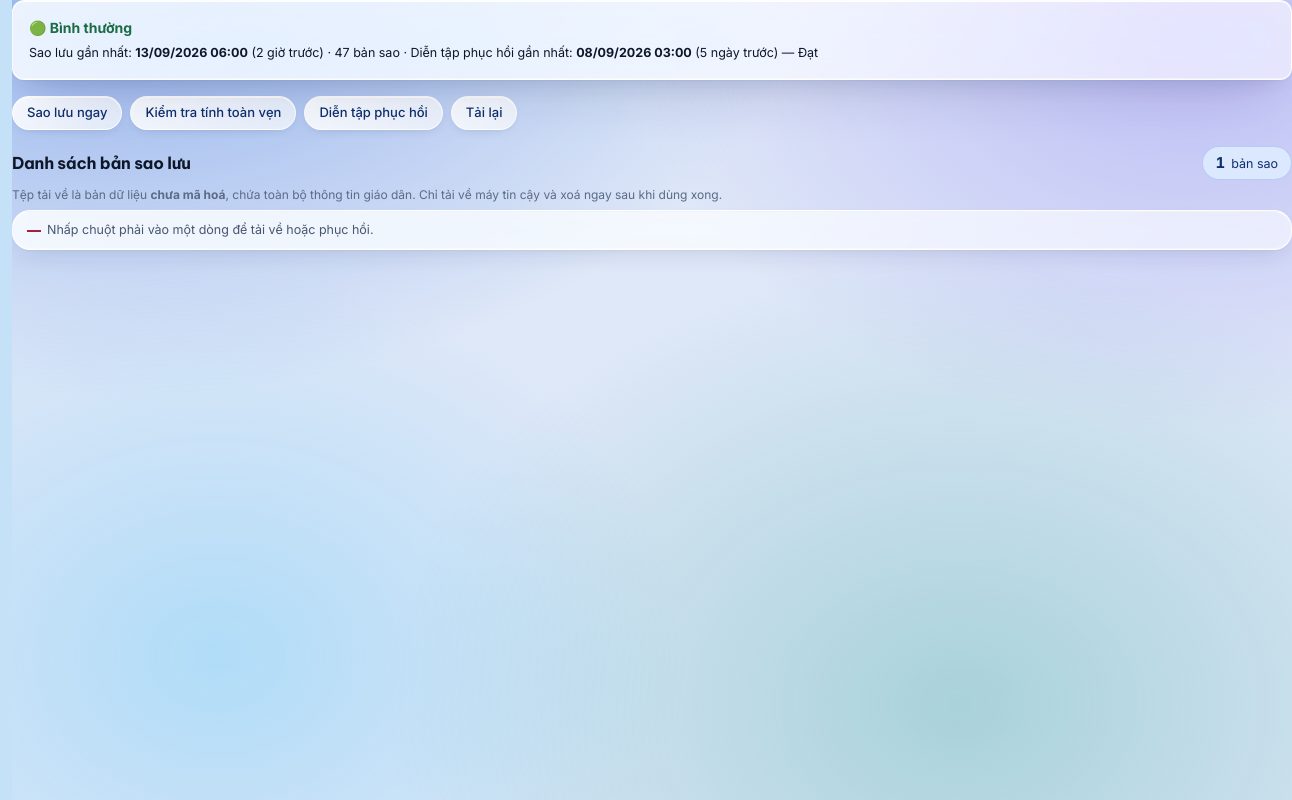
SaoLuuPage › bao loi ro rang khi tao cong viec that bai, khong im lang
Expected: the text "🟢 Bình thường" is shown, [29,19,132,36]
Step 1. Click the button "Sao lưu ngay" → (67, 113), box [12,96,122,130]
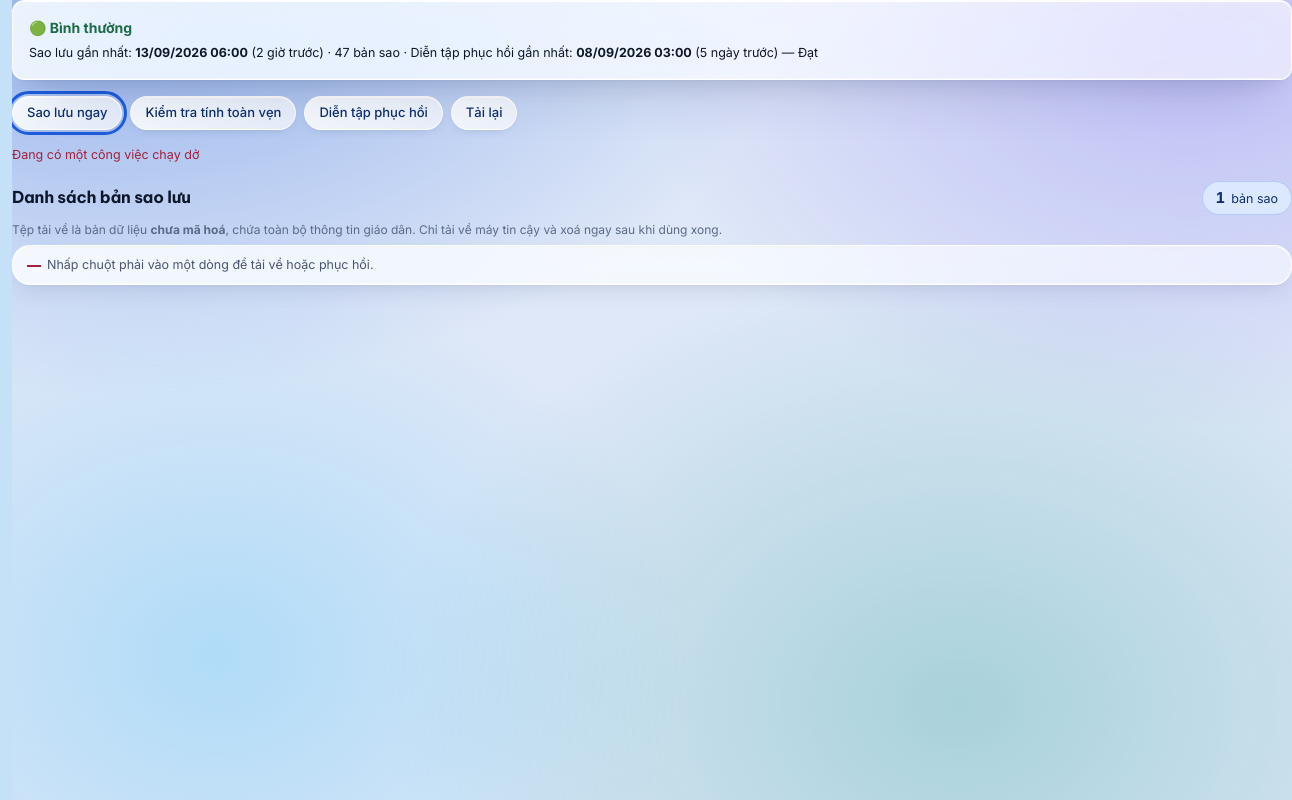
Expected: the text "Đang có một công việc chạy dở" is shown, [12,147,199,162]
